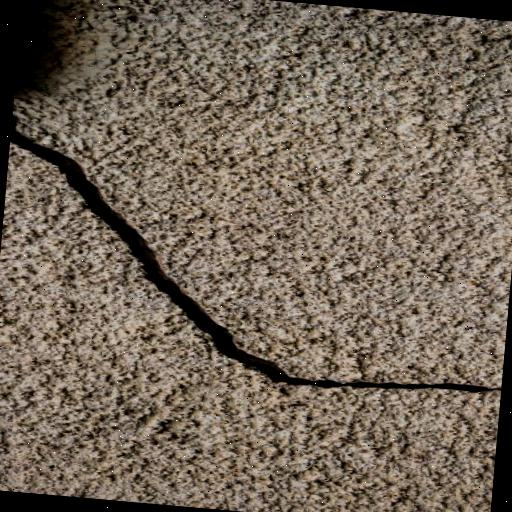spalling: (17, 117, 500, 402)
